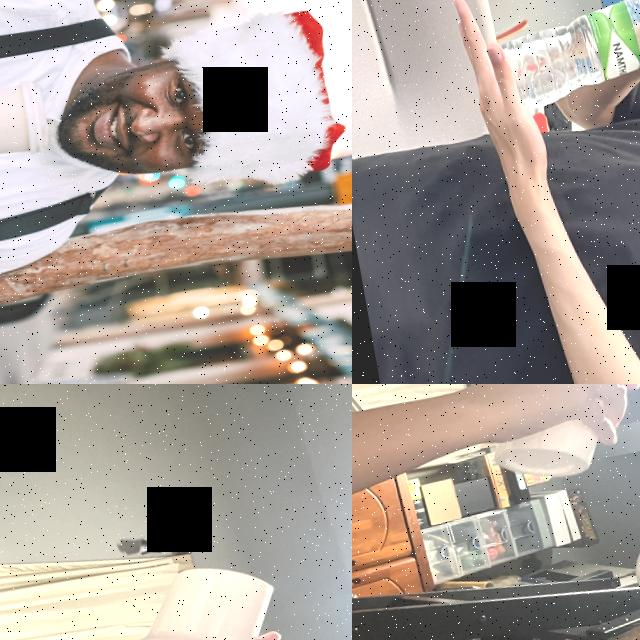bottle: (491, 0, 640, 114)
cup: (11, 553, 309, 640), (460, 384, 640, 488), (0, 74, 52, 178)
